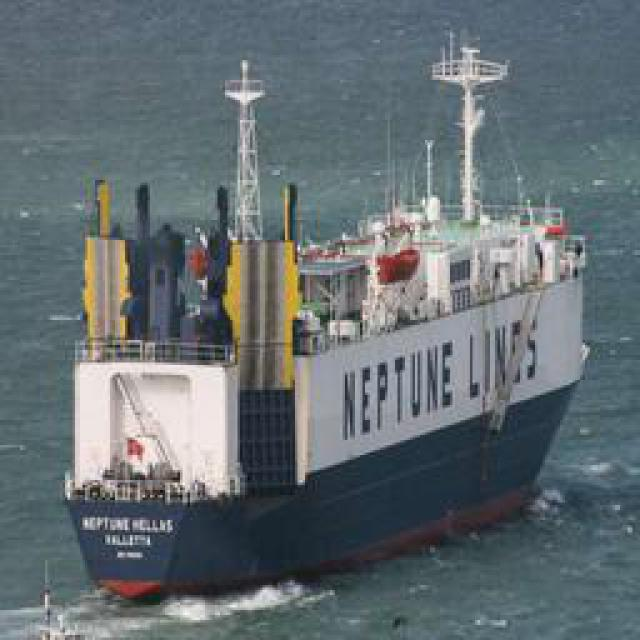Ship: (55, 81, 593, 606)
